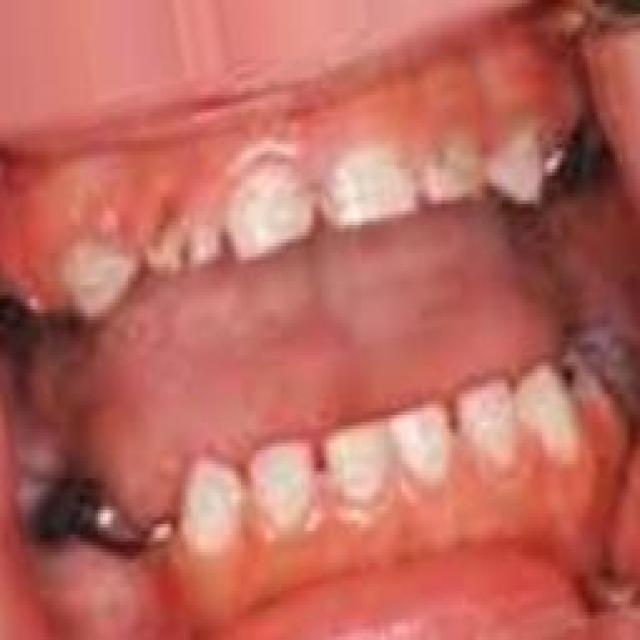caries: (145, 198, 220, 280), (419, 133, 486, 212), (551, 346, 590, 400)
